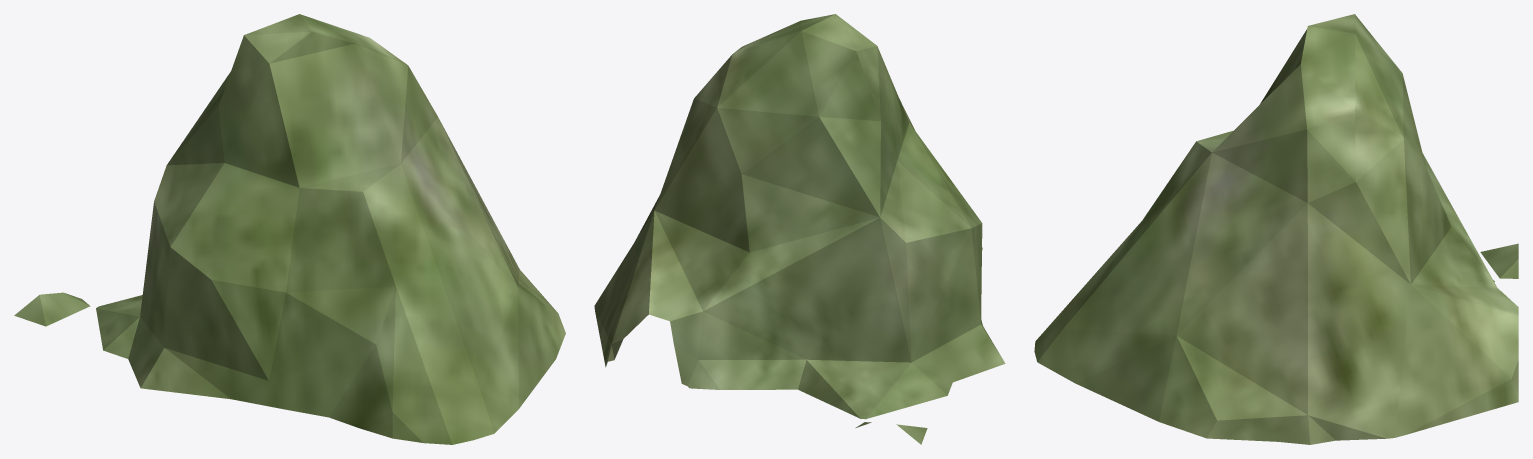
The picture shows the model from 3 angles, left to right: view 1: azimuth 30°, elevation 25°; view 2: azimuth 150°, elevation 25°; view 3: azimuth 270°, elevation 25°; orthographic projection.
Size of the model in its own units: 0.7688 by 0.5645 by 0.7895.
1 material, 1 textured.
